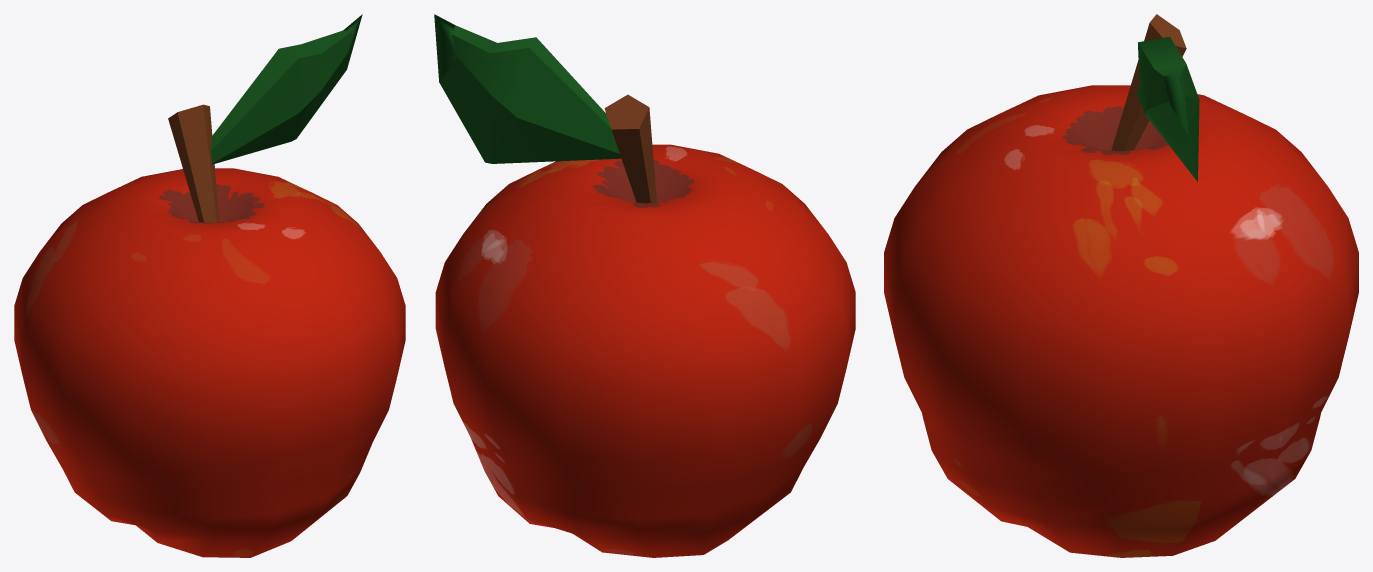
The model's file is Apple.fbx.
The picture shows the model from 3 angles, left to right: view 1: azimuth 30°, elevation 25°; view 2: azimuth 150°, elevation 25°; view 3: azimuth 270°, elevation 25°; orthographic projection. The views are drawn at different scales.
Visible parts, largest first — view 1: pCylinder3; view 2: pCylinder3; view 3: pCylinder3.
Boxes of the visible parts, box(x1,y1,x2,y2) form: pCylinder3: box(14, 14, 405, 557); pCylinder3: box(434, 14, 855, 557); pCylinder3: box(884, 14, 1358, 557).
Bounding box in the file's own units: 1.92 × 2.43 × 1.9.
Materials: 1 (1 with a texture image).
